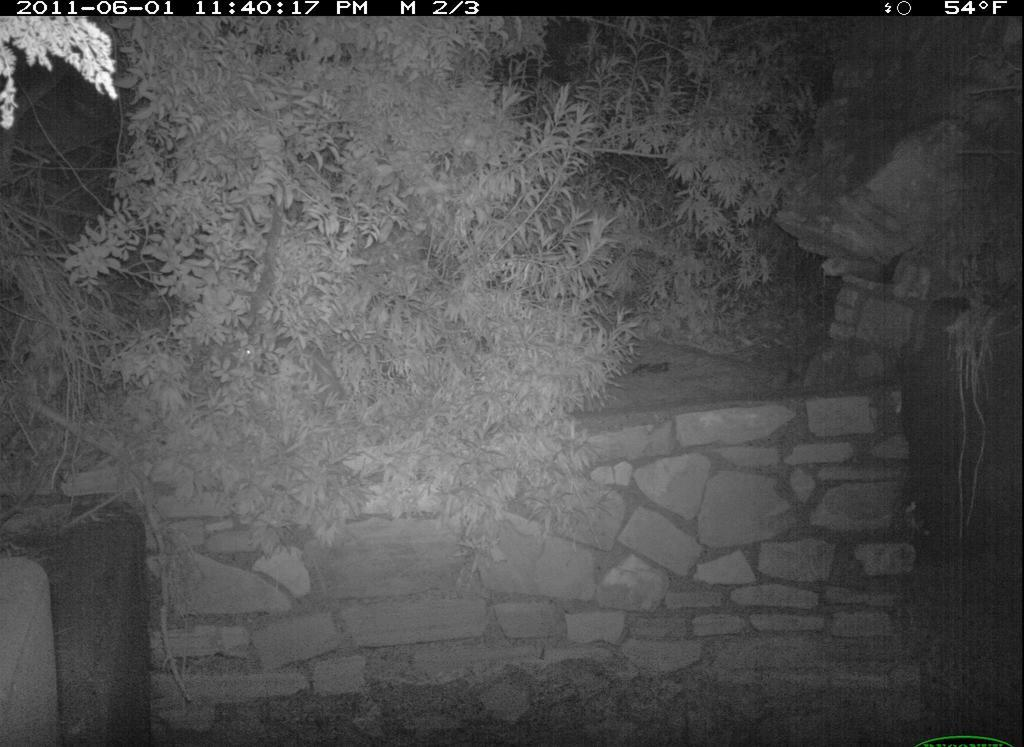opossum: (227, 325, 364, 417)
